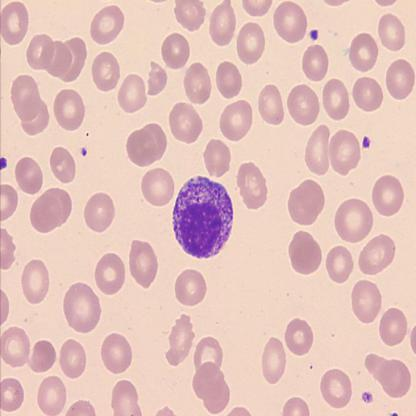Metamyelocyte: (170, 172, 235, 262)
